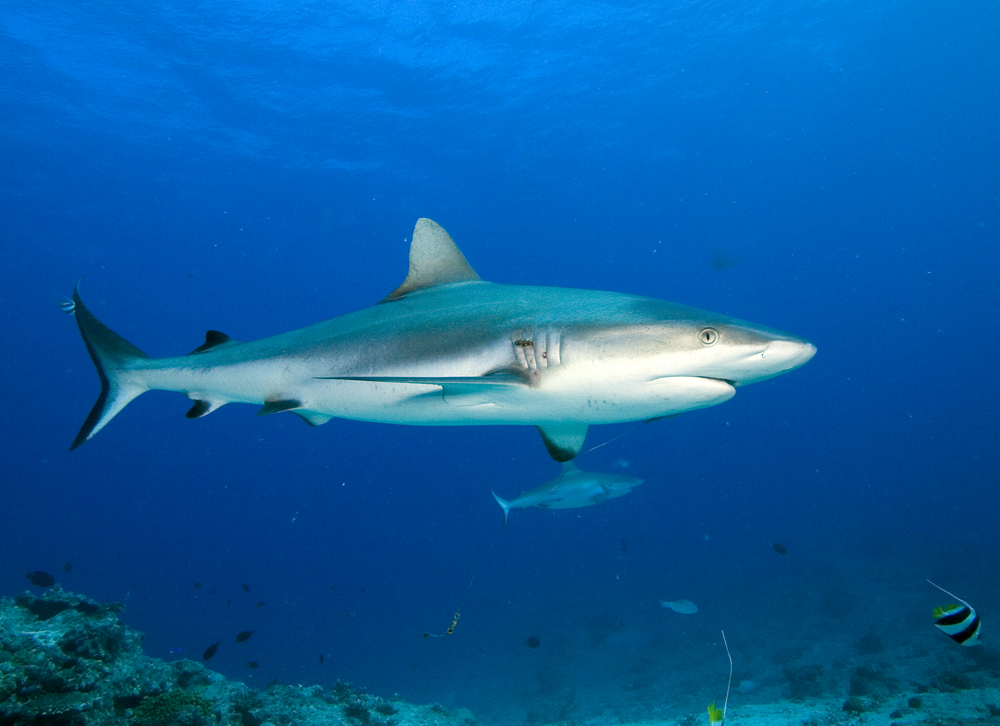Carcharhinus_amblyrhynchos: (34, 211, 840, 475)
